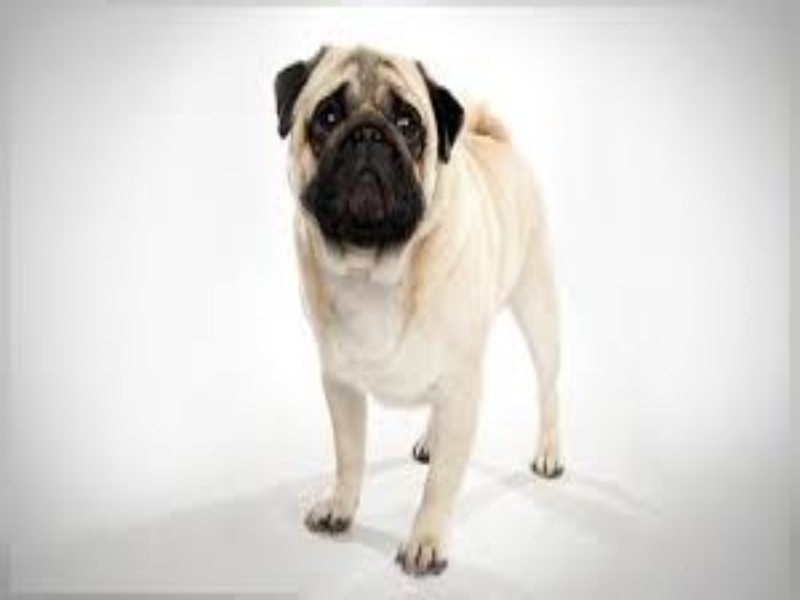dog: (262, 35, 578, 582)
